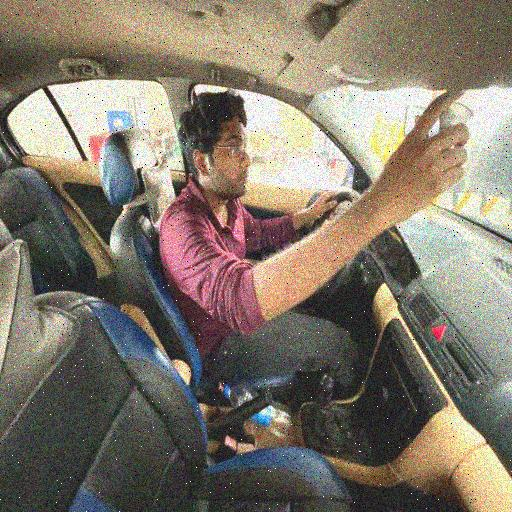Hair Mirror: (155, 88, 472, 350)
